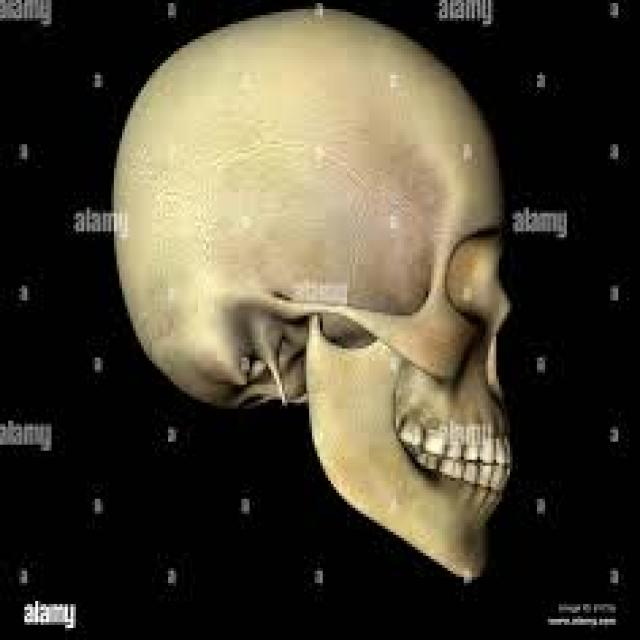skull: (95, 0, 536, 601)
